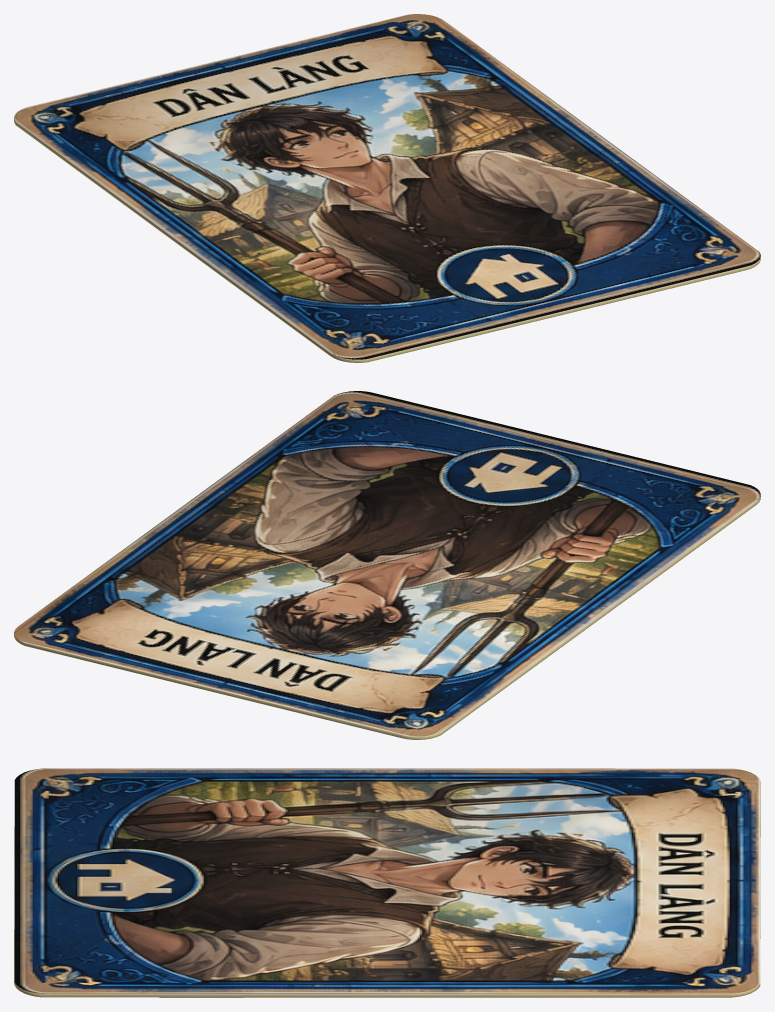
File: RoleCard_Villager.glb
3 renders of one model, top to bottom at view 1: azimuth 30°, elevation 25°; view 2: azimuth 150°, elevation 25°; view 3: azimuth 270°, elevation 25°, orthographic. The views are drawn at different scales.
Visible parts, largest first — view 1: RoleCard; view 2: RoleCard; view 3: RoleCard.
Part boxes in pixels (bbox=[...]): RoleCard: bbox=[14, 14, 760, 362]; RoleCard: bbox=[14, 391, 760, 739]; RoleCard: bbox=[14, 768, 760, 997].
Size of the model in its own units: 0.63 by 0.005 by 0.88.
3 materials, 2 textured.
